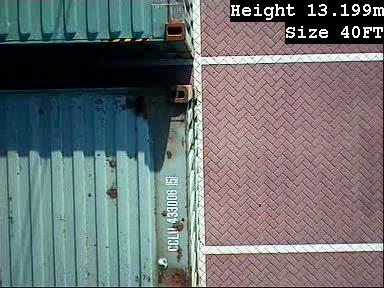groundmarker_2: (27, 1, 139, 155)
